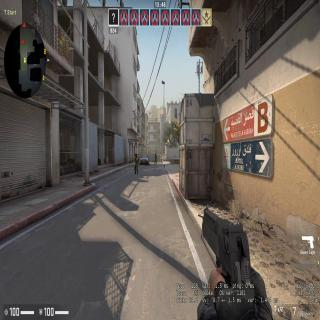CT-Body: (134, 152, 138, 175), (154, 153, 157, 165)
CT-Head: (135, 152, 137, 156), (155, 153, 156, 155)
